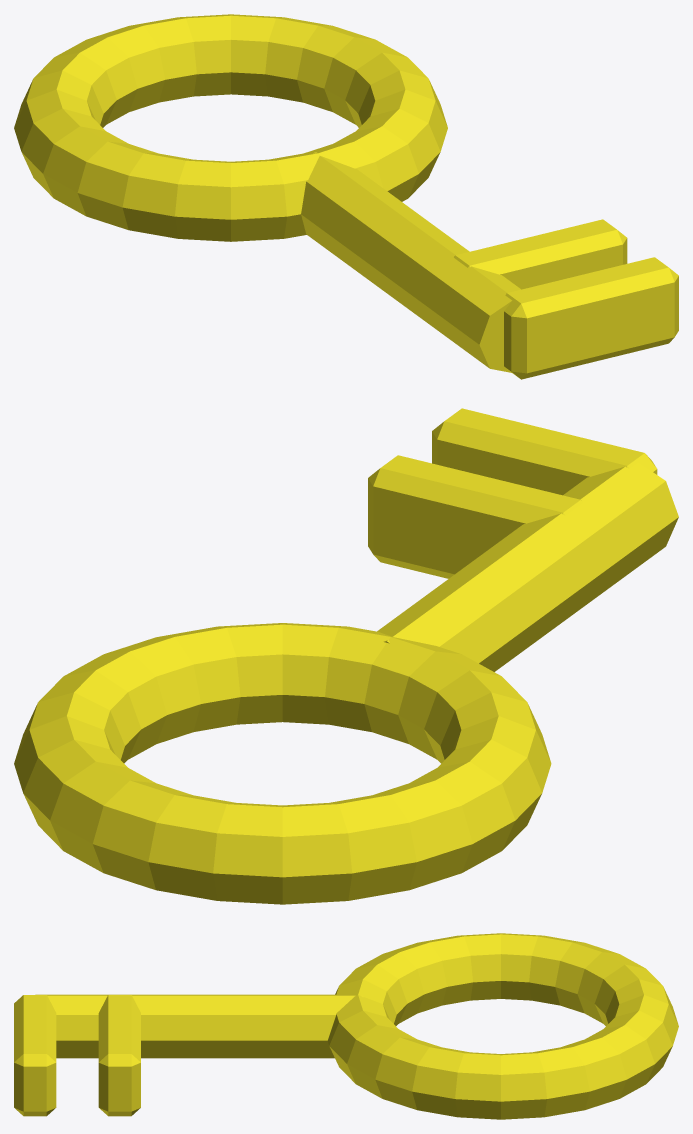
File: key-yellow.glb
The picture shows the model from 3 angles, top to bottom: view 1: azimuth 30°, elevation 25°; view 2: azimuth 150°, elevation 25°; view 3: azimuth 270°, elevation 25°; orthographic projection. The views are drawn at different scales.
Visible parts, largest first — view 1: key-yellow; view 2: key-yellow; view 3: key-yellow.
Part boxes in pixels (bbox=[...]): key-yellow: bbox=[14, 14, 678, 379]; key-yellow: bbox=[14, 408, 678, 904]; key-yellow: bbox=[14, 933, 678, 1119].
Bounding box in the file's own units: 0.336 × 0.066 × 0.628.
